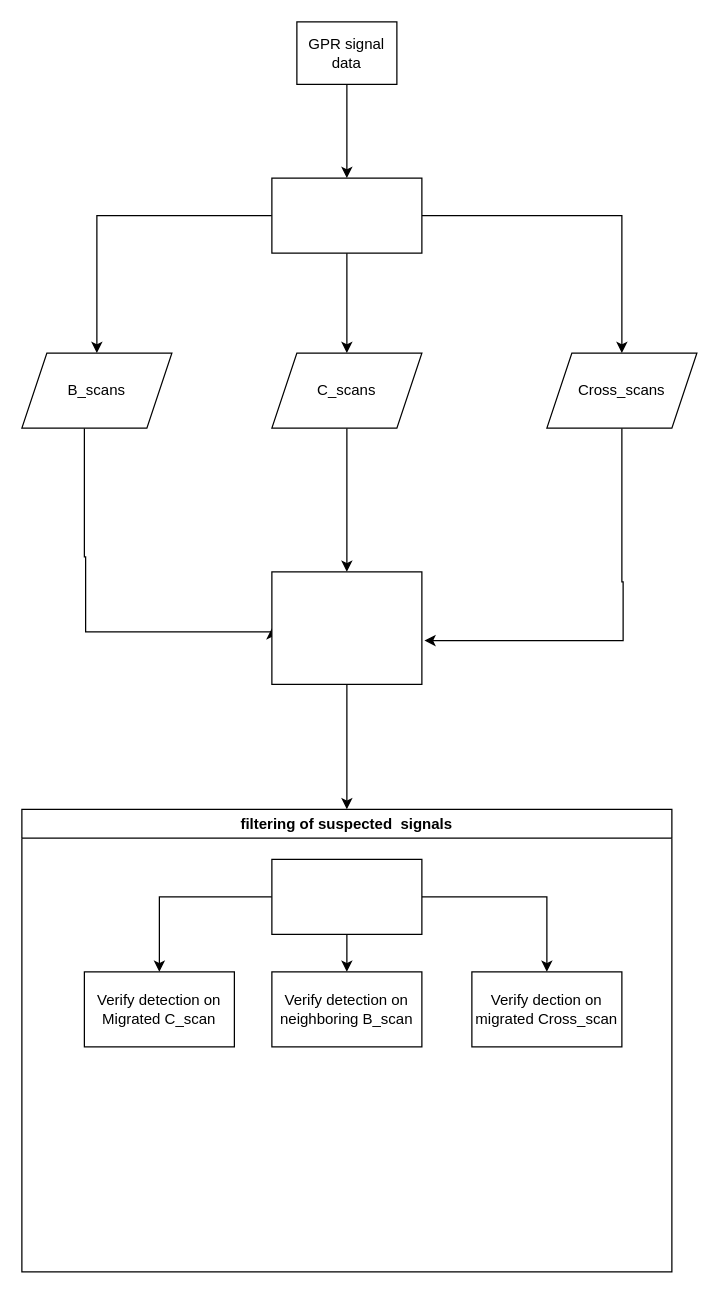
Image size: 719x1294. Some labels were removed from this diagram. The shapes that lost their labels are listed below. From the top down, each one's centre as x and y in pixels, then its label:
point (346, 215): Images creation
point (346, 627): suspicious signal détection : Yolo model
point (346, 896): signal detected on a migrated B_scan image
